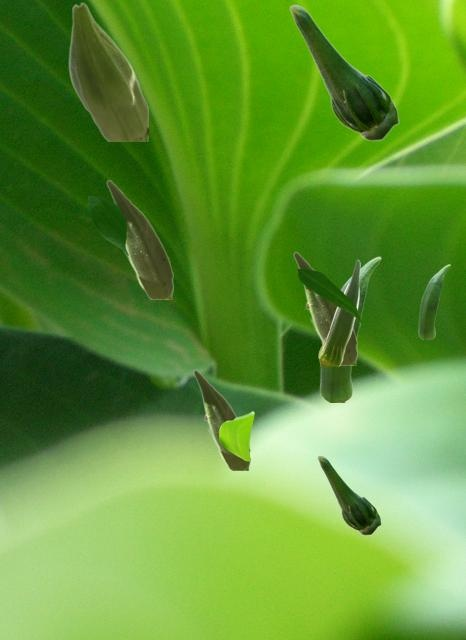okra: (289, 4, 398, 140), (68, 2, 147, 140), (319, 256, 380, 401), (106, 179, 172, 298), (293, 251, 356, 364), (193, 369, 249, 469), (317, 455, 380, 534), (318, 259, 359, 365), (418, 264, 449, 338)
